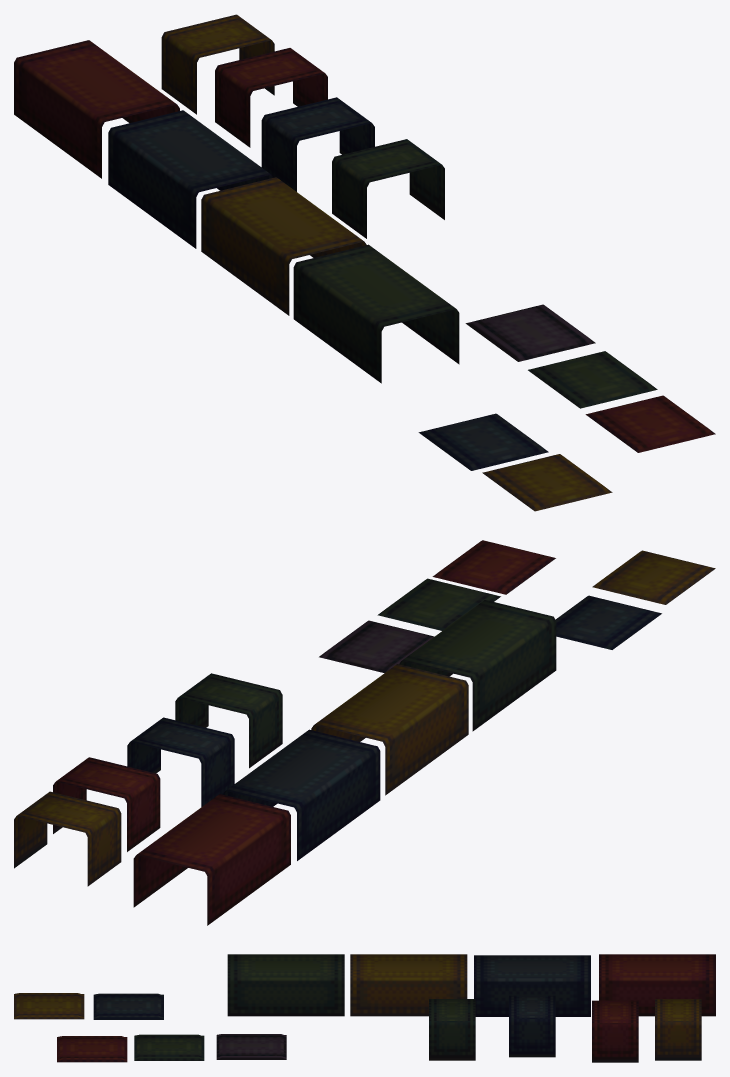
File: EnvObjMD_TableCloth_A_M_Blue.FBX
3 renders of one model, top to bottom at view 1: azimuth 30°, elevation 25°; view 2: azimuth 150°, elevation 25°; view 3: azimuth 270°, elevation 25°, orthographic. The views are drawn at different scales.
Visible parts, largest first — view 1: EnvObjMD_TableCloth_A_M_Green, EnvObjMD_TableCloth_A_M_Red, EnvObjMD_TableCloth_A_M_Yellow, EnvObjMD_TableCloth_A_M_Blue, EnvObjMD_TableCloth_A_S_Green, EnvObjMD_TableCloth_A_S_Red, EnvObjMD_TableCloth_A_S_Blue, EnvObjMD_TableCloth_A_S_Yellow, EnvObjMD_TableCloth_A_PlaceMat_Blue, EnvObjMD_TableCloth_A_PlaceMat_Purple, EnvObjMD_TableCloth_A_PlaceMat_Red, EnvObjMD_TableCloth_A_PlaceMat_Yellow (+1 smaller); view 2: EnvObjMD_TableCloth_A_M_Red, EnvObjMD_TableCloth_A_M_Yellow, EnvObjMD_TableCloth_A_M_Green, EnvObjMD_TableCloth_A_M_Blue, EnvObjMD_TableCloth_A_S_Yellow, EnvObjMD_TableCloth_A_S_Green, EnvObjMD_TableCloth_A_S_Blue, EnvObjMD_TableCloth_A_S_Red, EnvObjMD_TableCloth_A_PlaceMat_Red, EnvObjMD_TableCloth_A_PlaceMat_Yellow, EnvObjMD_TableCloth_A_PlaceMat_Blue, EnvObjMD_TableCloth_A_PlaceMat_Green (+1 smaller); view 3: EnvObjMD_TableCloth_A_M_Green, EnvObjMD_TableCloth_A_M_Yellow, EnvObjMD_TableCloth_A_M_Blue, EnvObjMD_TableCloth_A_M_Red, EnvObjMD_TableCloth_A_S_Blue, EnvObjMD_TableCloth_A_S_Red, EnvObjMD_TableCloth_A_S_Green, EnvObjMD_TableCloth_A_S_Yellow, EnvObjMD_TableCloth_A_PlaceMat_Red, EnvObjMD_TableCloth_A_PlaceMat_Yellow, EnvObjMD_TableCloth_A_PlaceMat_Blue, EnvObjMD_TableCloth_A_PlaceMat_Green (+1 smaller).
Part boxes in pixels (<box>): EnvObjMD_TableCloth_A_M_Green: <box>293,244,459,383</box>; EnvObjMD_TableCloth_A_M_Red: <box>14,40,179,178</box>; EnvObjMD_TableCloth_A_M_Yellow: <box>201,177,366,315</box>; EnvObjMD_TableCloth_A_M_Blue: <box>108,110,273,248</box>; EnvObjMD_TableCloth_A_S_Green: <box>332,139,444,238</box>; EnvObjMD_TableCloth_A_S_Red: <box>215,48,327,147</box>; EnvObjMD_TableCloth_A_S_Blue: <box>261,97,374,191</box>; EnvObjMD_TableCloth_A_S_Yellow: <box>161,14,274,114</box>; EnvObjMD_TableCloth_A_PlaceMat_Blue: <box>418,413,548,470</box>; EnvObjMD_TableCloth_A_PlaceMat_Purple: <box>465,304,595,361</box>; EnvObjMD_TableCloth_A_PlaceMat_Red: <box>585,395,715,452</box>; EnvObjMD_TableCloth_A_PlaceMat_Yellow: <box>482,454,612,511</box>; EnvObjMD_TableCloth_A_M_Red: <box>133,794,290,925</box>; EnvObjMD_TableCloth_A_M_Yellow: <box>311,664,468,795</box>; EnvObjMD_TableCloth_A_M_Green: <box>399,600,556,731</box>; EnvObjMD_TableCloth_A_M_Blue: <box>223,729,380,860</box>; EnvObjMD_TableCloth_A_S_Yellow: <box>14,791,121,886</box>; EnvObjMD_TableCloth_A_S_Green: <box>175,673,282,768</box>; EnvObjMD_TableCloth_A_S_Blue: <box>127,717,234,806</box>; EnvObjMD_TableCloth_A_S_Red: <box>53,757,160,851</box>; EnvObjMD_TableCloth_A_PlaceMat_Red: <box>432,540,555,594</box>; EnvObjMD_TableCloth_A_PlaceMat_Yellow: <box>592,550,715,604</box>; EnvObjMD_TableCloth_A_PlaceMat_Blue: <box>555,595,661,649</box>; EnvObjMD_TableCloth_A_PlaceMat_Green: <box>377,578,500,630</box>; EnvObjMD_TableCloth_A_M_Green: <box>227,954,344,1016</box>; EnvObjMD_TableCloth_A_M_Yellow: <box>350,954,467,1016</box>; EnvObjMD_TableCloth_A_M_Blue: <box>474,955,590,1016</box>; EnvObjMD_TableCloth_A_M_Red: <box>599,954,715,1016</box>; EnvObjMD_TableCloth_A_S_Blue: <box>509,995,555,1057</box>; EnvObjMD_TableCloth_A_S_Red: <box>592,1000,638,1062</box>; EnvObjMD_TableCloth_A_S_Green: <box>429,999,475,1060</box>; EnvObjMD_TableCloth_A_S_Yellow: <box>655,999,701,1060</box>; EnvObjMD_TableCloth_A_PlaceMat_Red: <box>57,1036,127,1062</box>; EnvObjMD_TableCloth_A_PlaceMat_Yellow: <box>14,993,84,1019</box>; EnvObjMD_TableCloth_A_PlaceMat_Blue: <box>93,993,163,1019</box>; EnvObjMD_TableCloth_A_PlaceMat_Green: <box>134,1034,204,1060</box>.
Size of the model in its own units: 304 by 84.22 by 1200.
